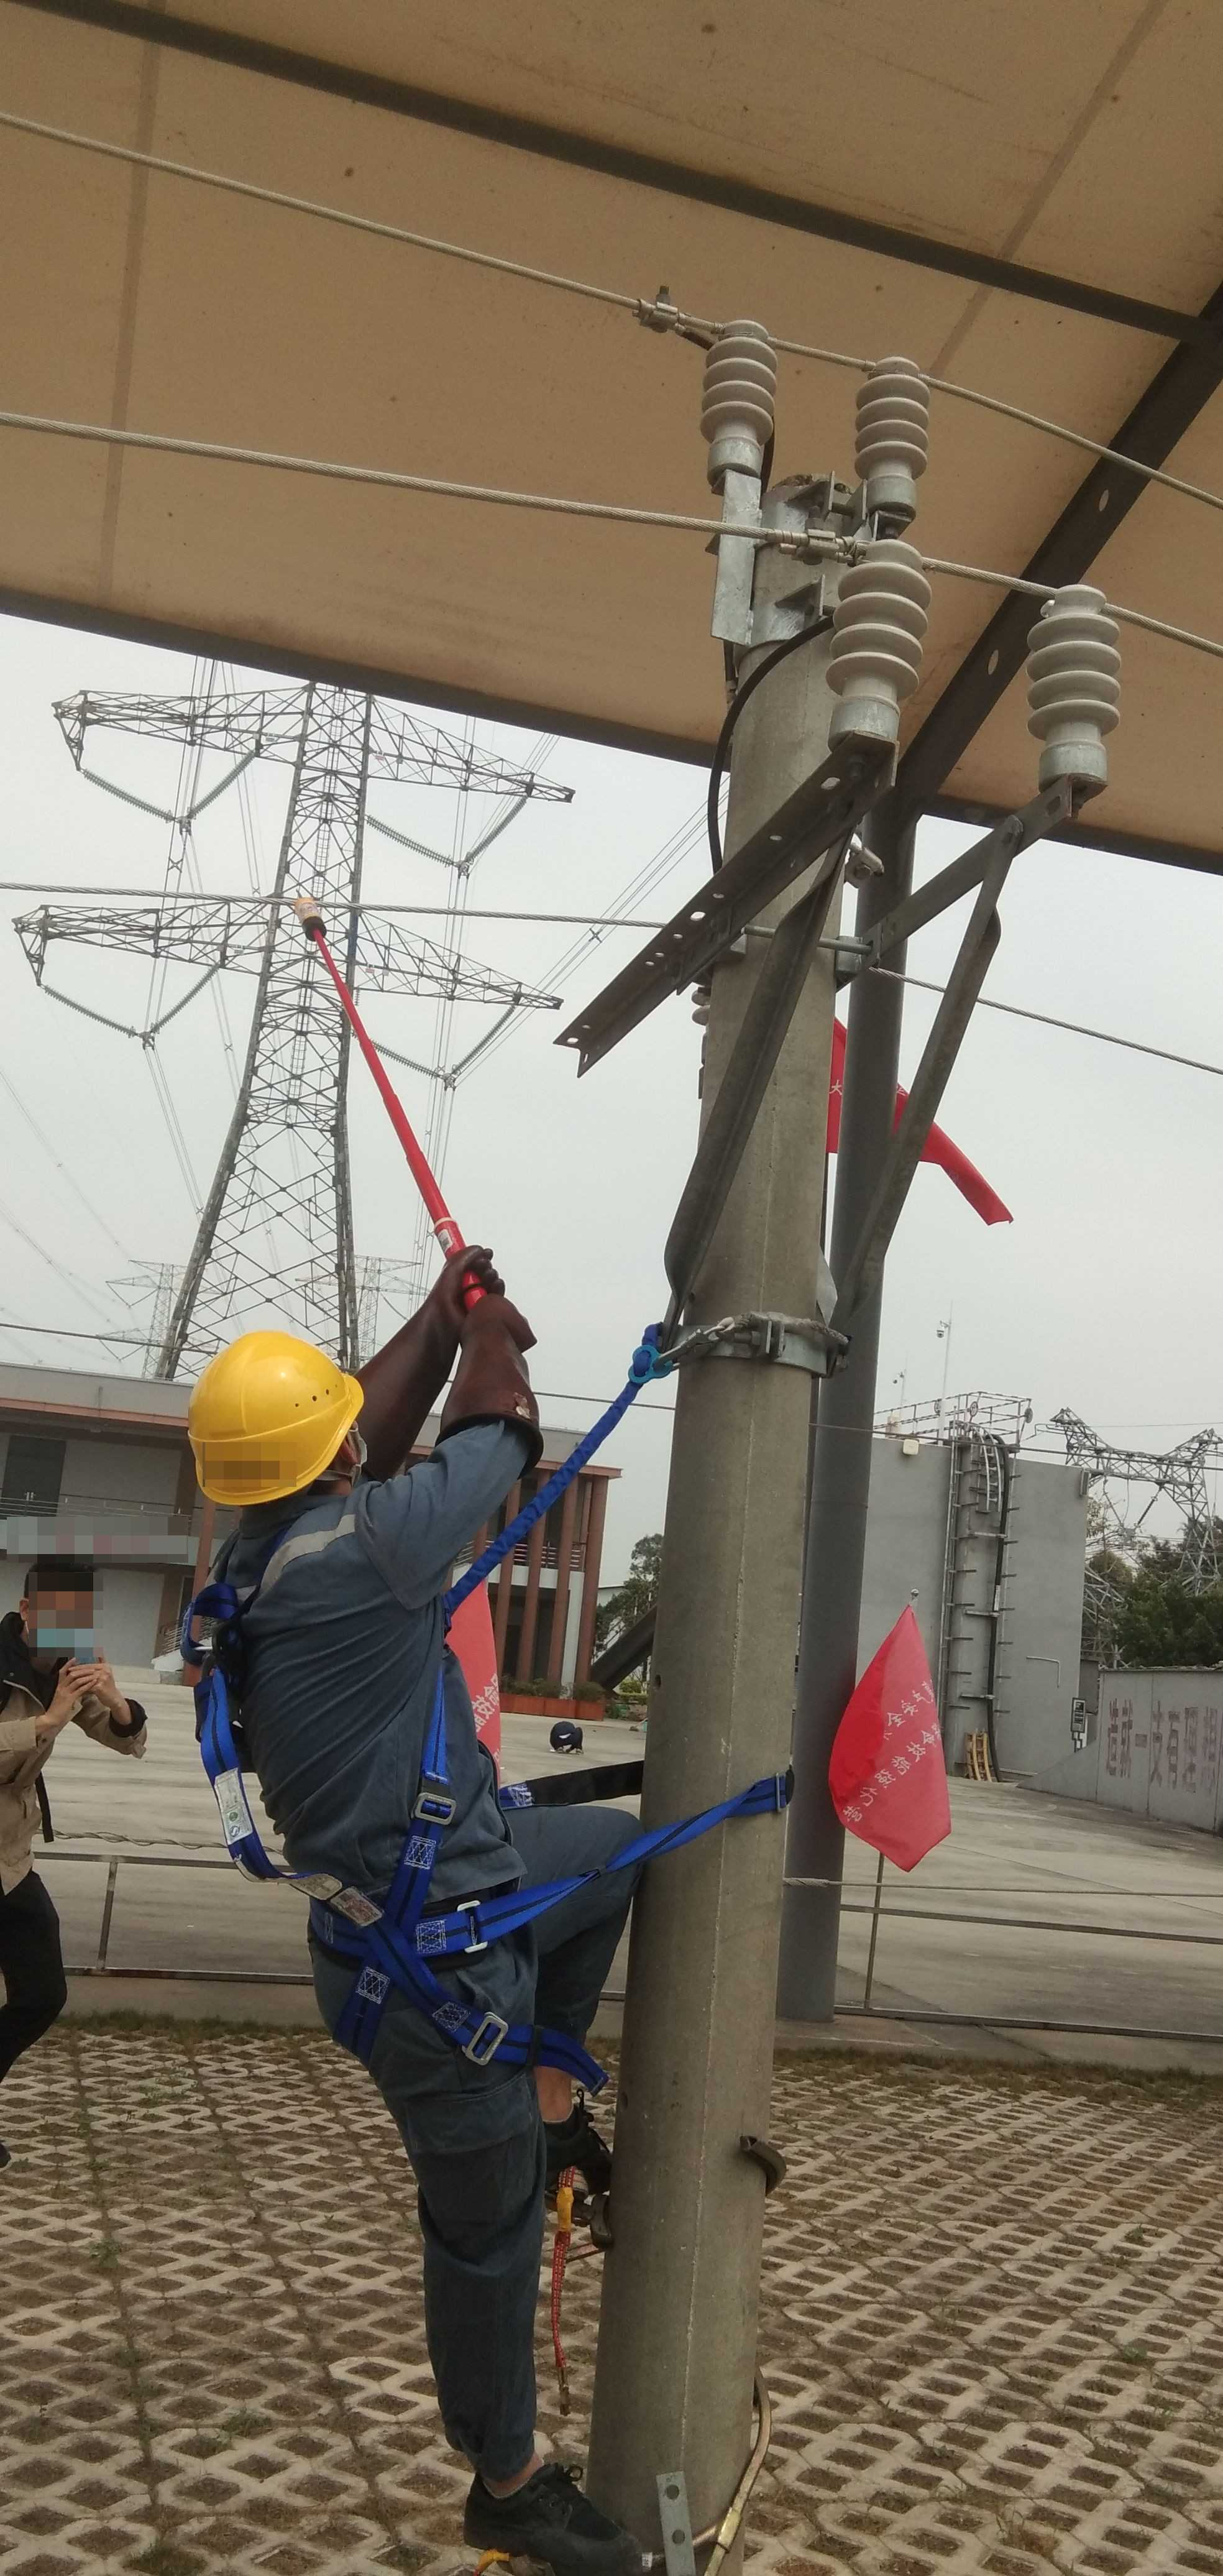downsuit: (323, 1896, 616, 2477)
upsuit: (207, 1516, 522, 1907)
